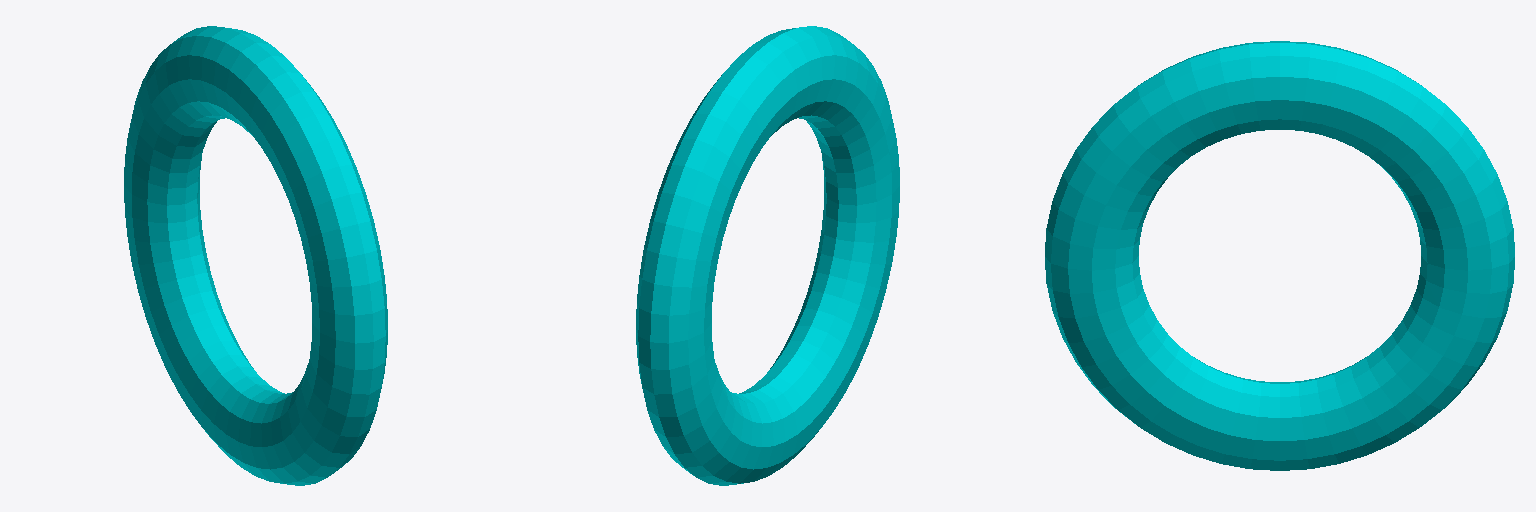
File: ring_2cm.obj
The picture shows the model from 3 angles: view 1: azimuth 30°, elevation 25°; view 2: azimuth 150°, elevation 25°; view 3: azimuth 270°, elevation 25°; orthographic projection.
Visible parts, largest first — view 1: Tore; view 2: Tore; view 3: Tore.
Boxes of the visible parts, x1=… form: Tore: x1=124, y1=26, x2=387, y2=485; Tore: x1=636, y1=26, x2=899, y2=485; Tore: x1=1045, y1=41, x2=1514, y2=470.
Bounding box in the file's own units: 0.01 × 0.0675 × 0.0675.